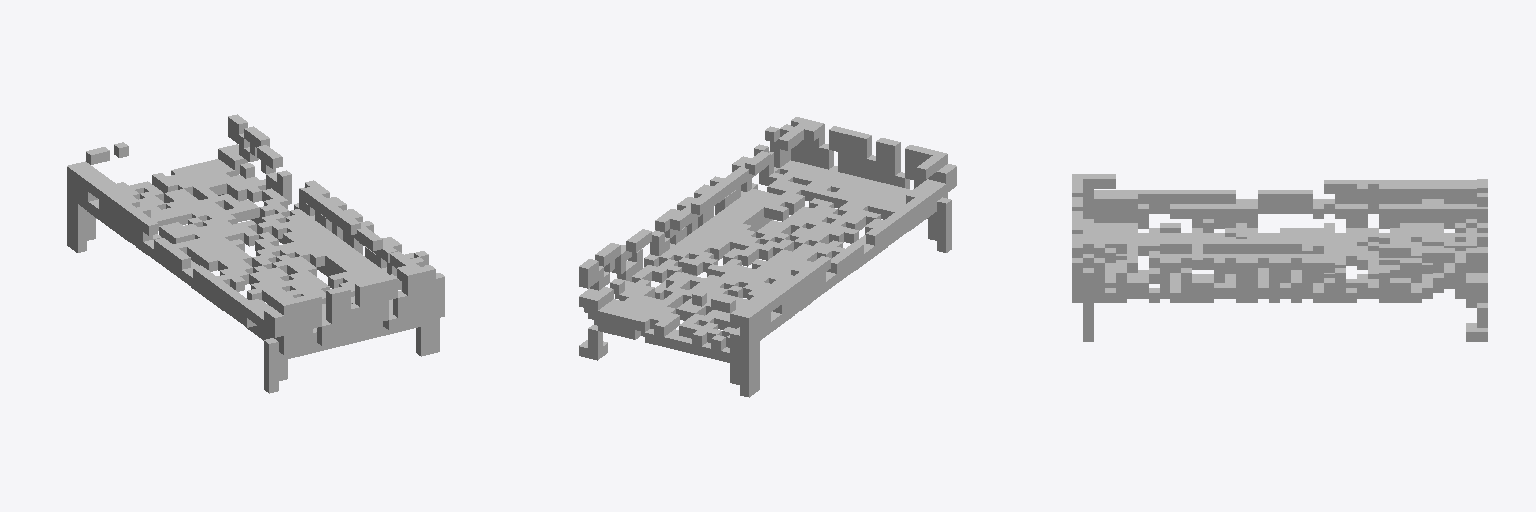
File: couch fired.obj
The picture shows the model from 3 angles: view 1: azimuth 30°, elevation 25°; view 2: azimuth 150°, elevation 25°; view 3: azimuth 270°, elevation 25°; orthographic projection.
Bounding box in the file's own units: 18 × 9 × 38.